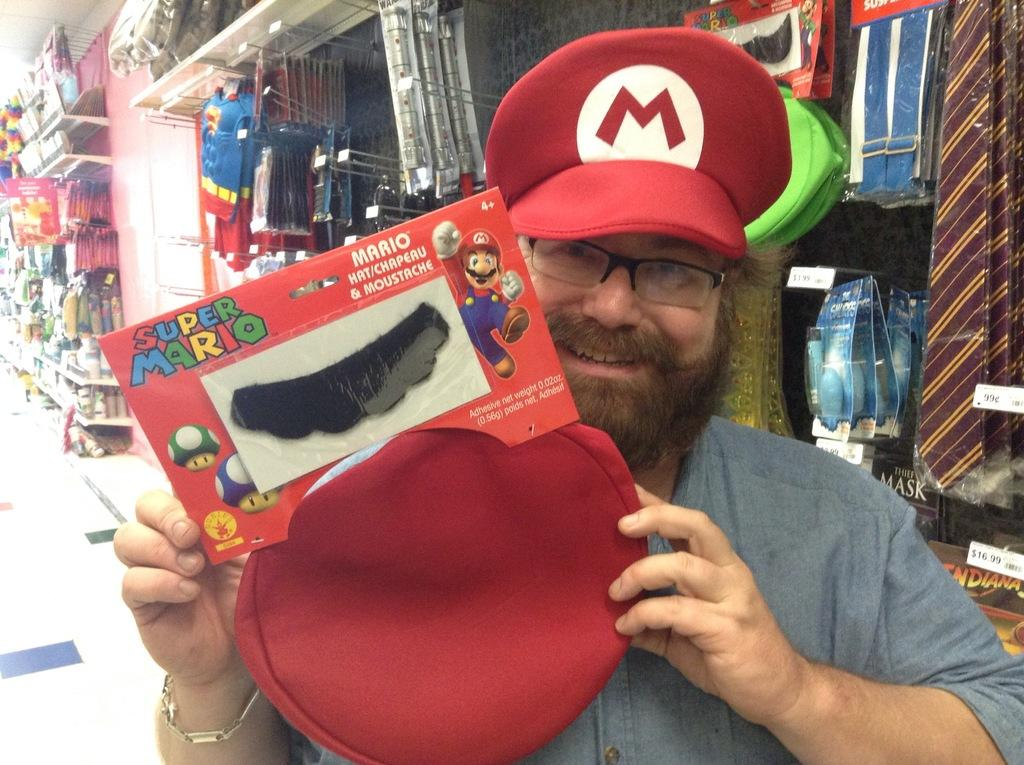Hat: (484, 28, 795, 260), (462, 228, 504, 260)
